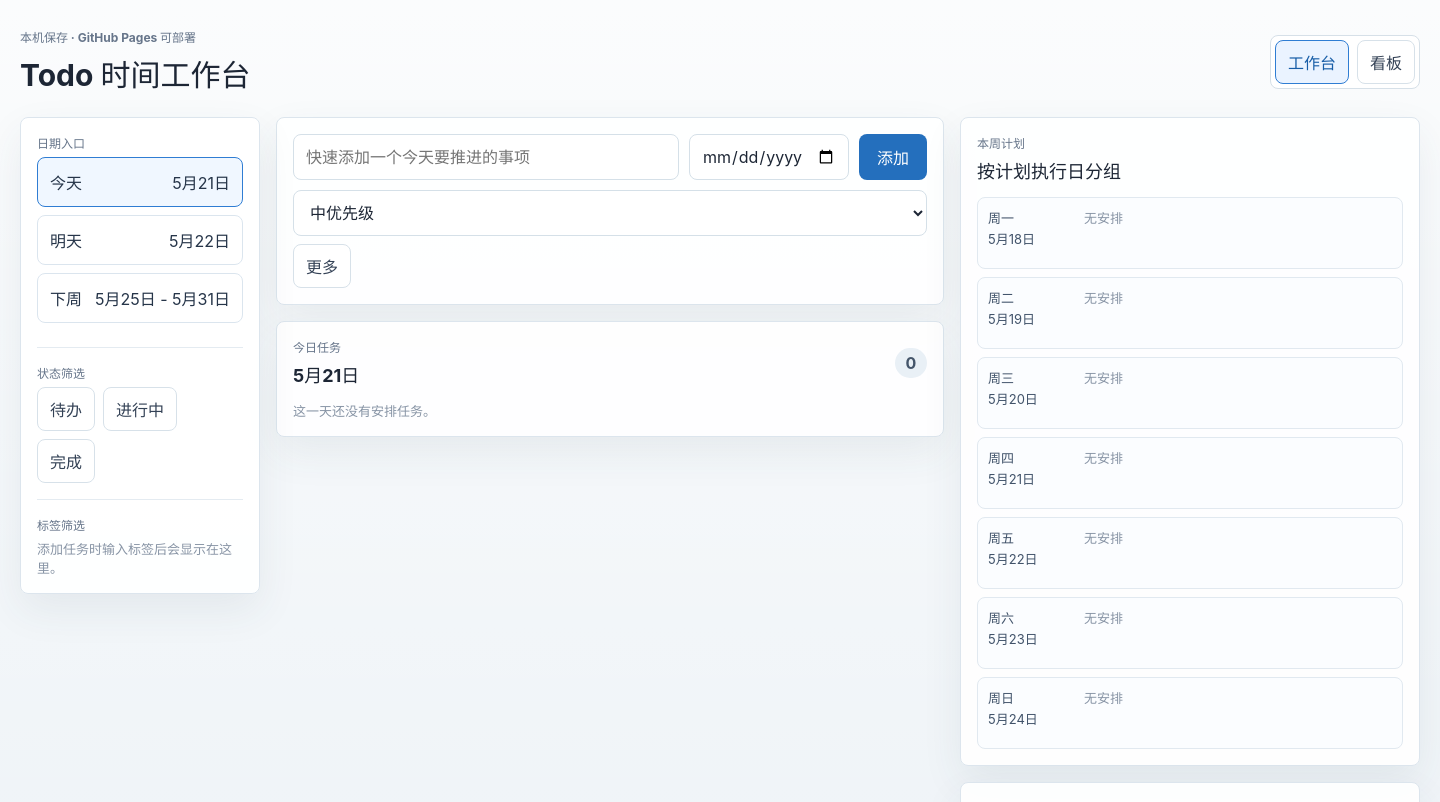
Test case: App workbench › renders week plan days as readable rows with a task area
Type "周计划任务标题" into the field with test id "quick-title" at coordinates (486, 157), box [293,134,679,180]
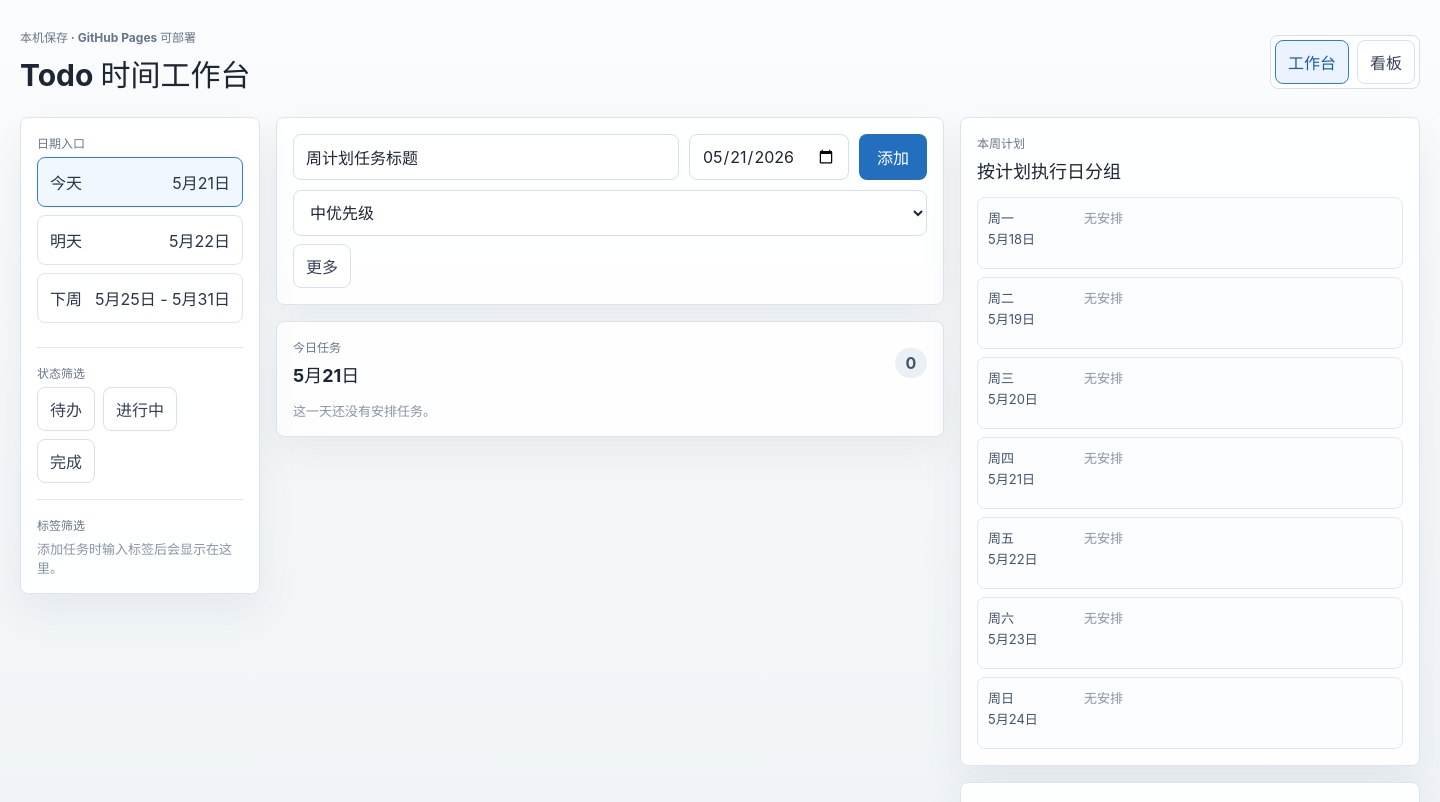
Submit the form with test id "quick-add", box [276,117,944,305]
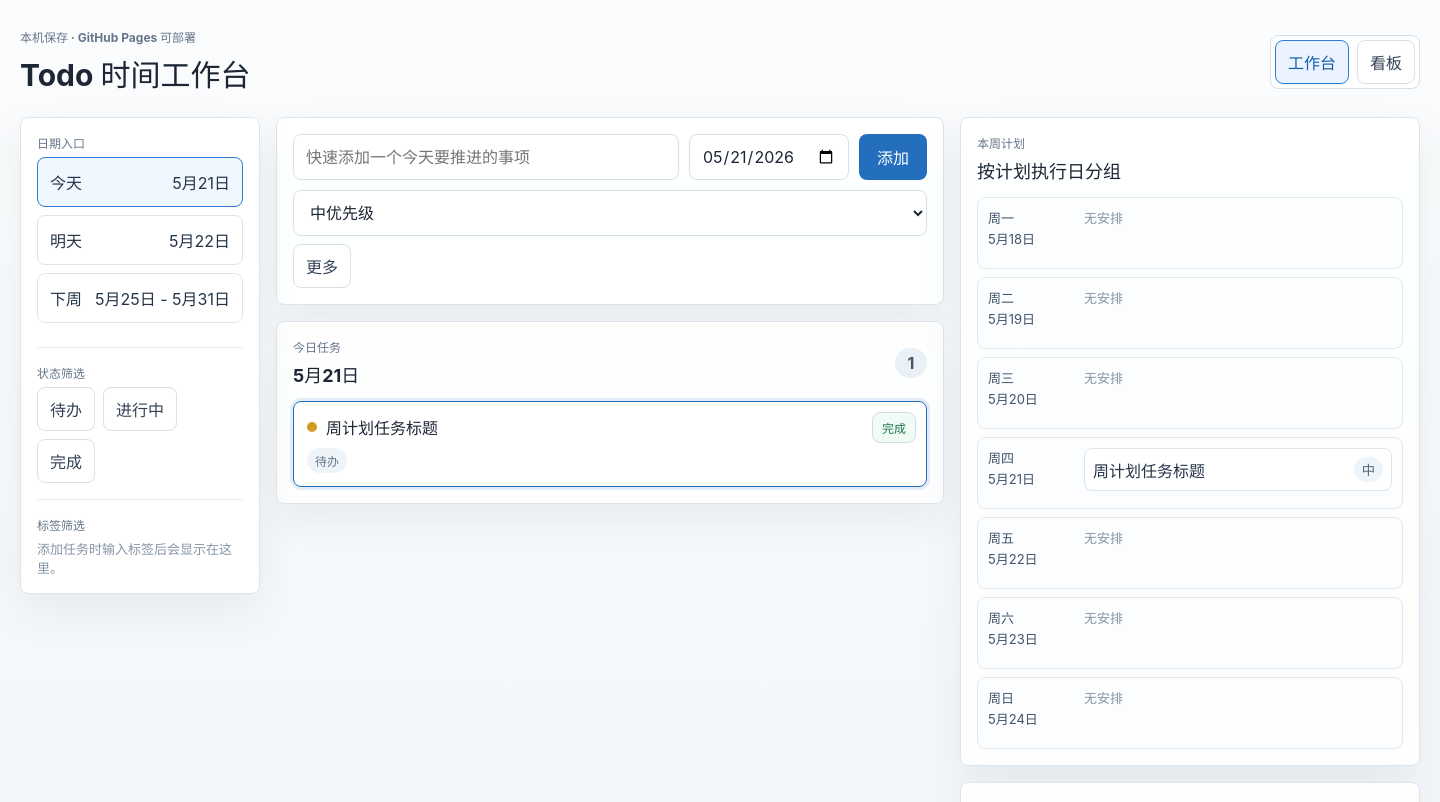
expect the element with test id "week-day-row" shows "周四": met, box [988,450,1014,466]
expect the button with class "week-task" shows "周计划任务标题": met, box [1084,448,1392,491]
